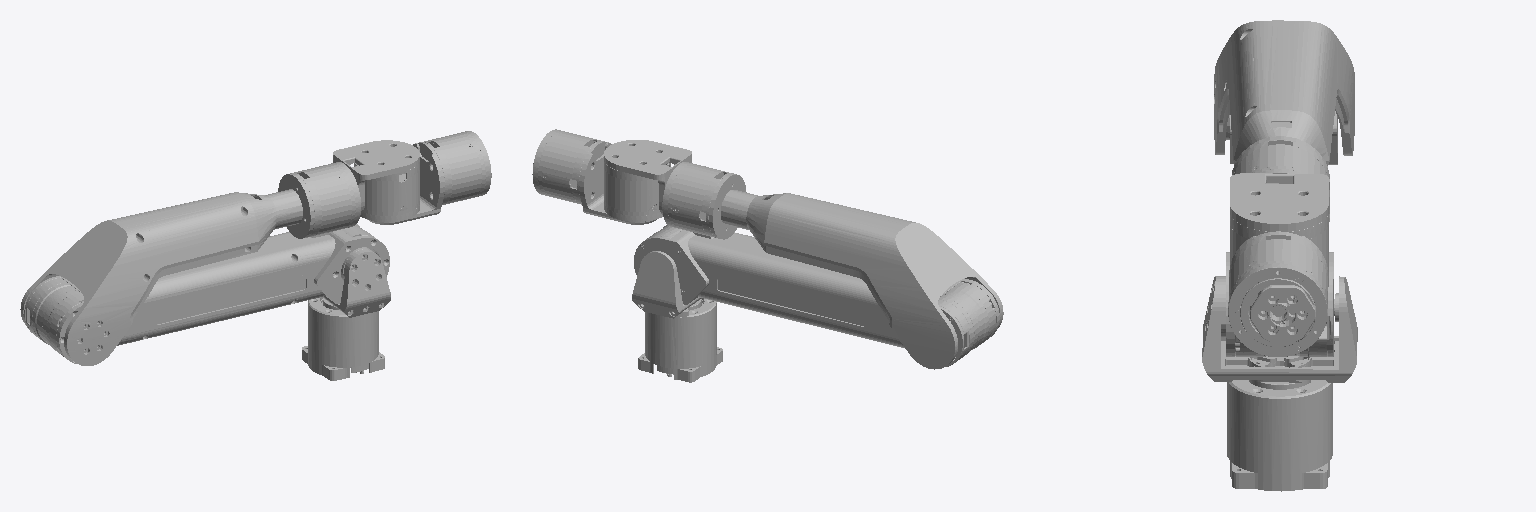
The robot description file, URDF, robot "airbot_play_v2":
<?xml version="1.0" encoding="utf-8"?>
<!-- This URDF was automatically created by SolidWorks to URDF Exporter! Originally created by [author] ([email redacted]) 
     Commit Version: 1.6.0-4-g7f85cfe  Build Version: 1.6.7995.38578
     For more information, please see http://wiki.ros.org/sw_urdf_exporter -->
<robot
  name="airbot_play_v2">
  <link
    name="base_link">
    <inertial>
      <origin
        xyz="-7.40129893089808E-05 4.73956588868989E-05 0.0319836979079202"
        rpy="0 0 0" />
      <mass
        value="0.106247734066052" />
      <inertia
        ixx="0.00005415"
        ixy="-0.00000023"
        ixz="-0.00000014"
        iyy="0.00005459"
        iyz="0.00000040"
        izz="0.00005079" />
    </inertial>
    <visual>
      <origin
        xyz="0 0 0"
        rpy="0 0 0" />
      <geometry>
        <mesh
          filename="package://airbot_play_v2/meshes/base_link.STL" />
      </geometry>
      <material
        name="">
        <color
          rgba="0.752941176470588 0.752941176470588 0.752941176470588 1" />
      </material>
    </visual>
    <collision>
      <origin
        xyz="0 0 0"
        rpy="0 0 0" />
      <geometry>
        <mesh
          filename="package://airbot_play_v2/meshes/base_link.STL" />
      </geometry>
    </collision>
  </link>
  <link
    name="link1">
    <inertial>
      <origin
        xyz="-0.000110401401159852 -5.9516073937115E-06 -0.0236545243595387"
        rpy="0 0 0" />
      <mass
        value="0.0289493292404144" />
      <inertia
        ixx="0.00003415"
        ixy="0.00000020"
        ixz="0.00000001"
        iyy="0.00001116"
        iyz="-0.00000027"
        izz="0.00003205" />
    </inertial>
    <visual>
      <origin
        xyz="0 0 0"
        rpy="0 0 0" />
      <geometry>
        <mesh
          filename="package://airbot_play_v2/meshes/link1.STL" />
      </geometry>
      <material
        name="">
        <color
          rgba="0.752941176470588 0.752941176470588 0.752941176470588 1" />
      </material>
    </visual>
    <collision>
      <origin
        xyz="0 0 0"
        rpy="0 0 0" />
      <geometry>
        <mesh
          filename="package://airbot_play_v2/meshes/link1.STL" />
      </geometry>
    </collision>
  </link>
  <joint
    name="joint1"
    type="revolute">
    <origin
      xyz="0 0 0.1005"
      rpy="0 0 0" />
    <parent
      link="base_link" />
    <child
      link="link1" />
    <axis
      xyz="0 0 1" />
    <limit
      lower="-2"
      upper="3.14"
      effort="100"
      velocity="110" />
  </joint>
  <link
    name="link2">
    <inertial>
      <origin
        xyz="0.131402178034658 0.000874874727492106 0.00146175650714369"
        rpy="0 0 0" />
      <mass
        value="0.279611367698844" />
      <inertia
        ixx="0.00016136"
        ixy="0.00000210"
        ixz="0.00000085"
        iyy="0.00386078"
        iyz="-0.00000053"
        izz="0.00384575" />
    </inertial>
    <visual>
      <origin
        xyz="0 0 0"
        rpy="0 0 0" />
      <geometry>
        <mesh
          filename="package://airbot_play_v2/meshes/link2.STL" />
      </geometry>
      <material
        name="">
        <color
          rgba="0.752941176470588 0.752941176470588 0.752941176470588 1" />
      </material>
    </visual>
    <collision>
      <origin
        xyz="0 0 0"
        rpy="0 0 0" />
      <geometry>
        <mesh
          filename="package://airbot_play_v2/meshes/link2.STL" />
      </geometry>
    </collision>
  </link>
  <joint
    name="joint2"
    type="revolute">
    <origin
      xyz="0 0 0"
      rpy="-1.5708 0 3.1326" />
    <parent
      link="link1" />
    <child
      link="link2" />
    <axis
      xyz="0 0 1" />
    <limit
      lower="-3.14"
      upper="0"
      effort="100"
      velocity="110" />
  </joint>
  <link
    name="link3">
    <inertial>
      <origin
        xyz="0.0436765172603279 -0.124217952682154 0.000863985483631766"
        rpy="0 0 0" />
      <mass
        value="0.122069188848913" />
      <inertia
        ixx="0.00115336"
        ixy="-0.00016476"
        ixz="-0.00000590"
        iyy="0.00013590"
        iyz="0.00001452"
        izz="0.00116357" />
    </inertial>
    <visual>
      <origin
        xyz="0 0 0"
        rpy="0 0 0" />
      <geometry>
        <mesh
          filename="package://airbot_play_v2/meshes/link3.STL" />
      </geometry>
      <material
        name="">
        <color
          rgba="0.752941176470588 0.752941176470588 0.752941176470588 1" />
      </material>
    </visual>
    <collision>
      <origin
        xyz="0 0 0"
        rpy="0 0 0" />
      <geometry>
        <mesh
          filename="package://airbot_play_v2/meshes/link3.STL" />
      </geometry>
    </collision>
  </link>
  <joint
    name="joint3"
    type="revolute">
    <origin
      xyz="0.264 0 0"
      rpy="0 0 -1.5708" />
    <parent
      link="link2" />
    <child
      link="link3" />
    <axis
      xyz="0 0 1" />
    <limit
      lower="0"
      upper="3.9"
      effort="100"
      velocity="110" />
  </joint>
  <link
    name="link4">
    <inertial>
      <origin
        xyz="0.00828390341909283 -0.000179999901881347 -0.0065769202471522"
        rpy="0 0 0" />
      <mass
        value="0.0554511336545199" />
      <inertia
        ixx="0.00003621"
        ixy="-0.00000009"
        ixz="-0.00000080"
        iyy="0.00003646"
        iyz="-0.00000004"
        izz="0.00002921" />
    </inertial>
    <visual>
      <origin
        xyz="0 0 0"
        rpy="0 0 0" />
      <geometry>
        <mesh
          filename="package://airbot_play_v2/meshes/link4.STL" />
      </geometry>
      <material
        name="">
        <color
          rgba="0.752941176470588 0.752941176470588 0.752941176470588 1" />
      </material>
    </visual>
    <collision>
      <origin
        xyz="0 0 0"
        rpy="0 0 0" />
      <geometry>
        <mesh
          filename="package://airbot_play_v2/meshes/link4.STL" />
      </geometry>
    </collision>
  </link>
  <joint
    name="joint4"
    type="revolute">
    <origin
      xyz="0.05675 -0.306 0"
      rpy="1.5708 0 0" />
    <parent
      link="link3" />
    <child
      link="link4" />
    <axis
      xyz="0 0 1" />
    <limit
      lower="-4"
      upper="4"
      effort="100"
      velocity="110" />
  </joint>
  <link
    name="link5">
    <inertial>
      <origin
        xyz="-0.0497295146243167 -0.000651142203663118 -0.00612845823429062"
        rpy="0 0 0" />
      <mass
        value="0.0671120133830051" />
      <inertia
        ixx="0.00003435"
        ixy="0.00000107"
        ixz="-0.00001436"
        iyy="0.00006703"
        iyz="-0.00000019"
        izz="0.00006201" />
    </inertial>
    <visual>
      <origin
        xyz="0 0 0"
        rpy="0 0 0" />
      <geometry>
        <mesh
          filename="package://airbot_play_v2/meshes/link5.STL" />
      </geometry>
      <material
        name="">
        <color
          rgba="0.752941176470588 0.752941176470588 0.752941176470588 1" />
      </material>
    </visual>
    <collision>
      <origin
        xyz="0 0 0"
        rpy="0 0 0" />
      <geometry>
        <mesh
          filename="package://airbot_play_v2/meshes/link5.STL" />
      </geometry>
    </collision>
  </link>
  <joint
    name="joint5"
    type="revolute">
    <origin
      xyz="0 0 0"
      rpy="-1.5708 1.5618 -1.5708" />
    <parent
      link="link4" />
    <child
      link="link5" />
    <axis
      xyz="0 0 1" />
    <limit
      lower="-1.4"
      upper="1.57"
      effort="100"
      velocity="110" />
  </joint>
  <link
    name="gripper_link">
    <inertial>
      <origin
        xyz="0 0 0"
        rpy="0 0 0" />
      <mass
        value="1E-15" />
      <inertia
        ixx="1E-11"
        ixy="1E-15"
        ixz="1E-15"
        iyy="1E-11"
        iyz="1E-15"
        izz="1E-11" />
    </inertial>
  </link>
  <joint
    name="joint6"
    type="revolute">
    <origin
      xyz="0 0 0"
      rpy="-1.5708 0 1.5708" />
    <parent
      link="link5" />
    <child
      link="gripper_link" />
    <axis
      xyz="0 0 1" />
    <limit
      lower="-10"
      upper="10"
      effort="100"
      velocity="1000" />
  </joint>
  <link
    name="custom_end_link">
    <inertial>
      <origin
        xyz="0 0 0"
        rpy="0 0 0" />
      <mass
        value="1E-15" />
      <inertia
        ixx="1E-11"
        ixy="1E-15"
        ixz="1E-15"
        iyy="1E-11"
        iyz="1E-15"
        izz="1E-11" />
    </inertial>
  </link>
  <joint
    name="joint_custom_end"
    type="fixed">
    <origin
      xyz="0 0 0.078"
      rpy="1.5708 -1.5708 0" />
    <parent
      link="gripper_link" />
    <child
      link="custom_end_link" />
  </joint>
</robot>

--- What the picture shows (computed from the rendered views, not written in the file) ---
Views: 3 orthographic renders of the robot side by side, from view 1: azimuth 30°, elevation 25°; view 2: azimuth 150°, elevation 25°; view 3: azimuth 270°, elevation 25°.
Model airbot_play_v2 with 8 links and 7 joints (6 revolute, 1 fixed), rooted at base_link, posed every joint at zero.
Visible links, largest first — view 1: link3, link2, link4, base_link, link5, link1; view 2: link3, link2, link4, base_link, link5, link1; view 3: link3, base_link, link5, link4, link1, link2.
Link boxes in pixels (x1,y1,x2,y2): link3: [20, 162, 360, 365]; link2: [24, 224, 389, 363]; link4: [333, 140, 419, 221]; base_link: [302, 297, 384, 380]; link5: [367, 131, 491, 224]; link1: [323, 249, 390, 317]; link3: [662, 162, 1003, 369]; link2: [634, 225, 999, 366]; link4: [604, 140, 691, 221]; base_link: [638, 298, 722, 382]; link5: [532, 129, 656, 224]; link1: [632, 251, 701, 318]; link3: [1214, 20, 1354, 221]; base_link: [1227, 366, 1332, 491]; link5: [1228, 231, 1327, 356]; link4: [1230, 173, 1329, 286]; link1: [1202, 276, 1357, 382]; link2: [1226, 111, 1338, 356].
Bounding box of the posed robot: 0.4229 × 0.0876 × 0.1847 m (x, y, z).
6 mesh visuals loaded from 6 distinct referenced files (6 binary STL).